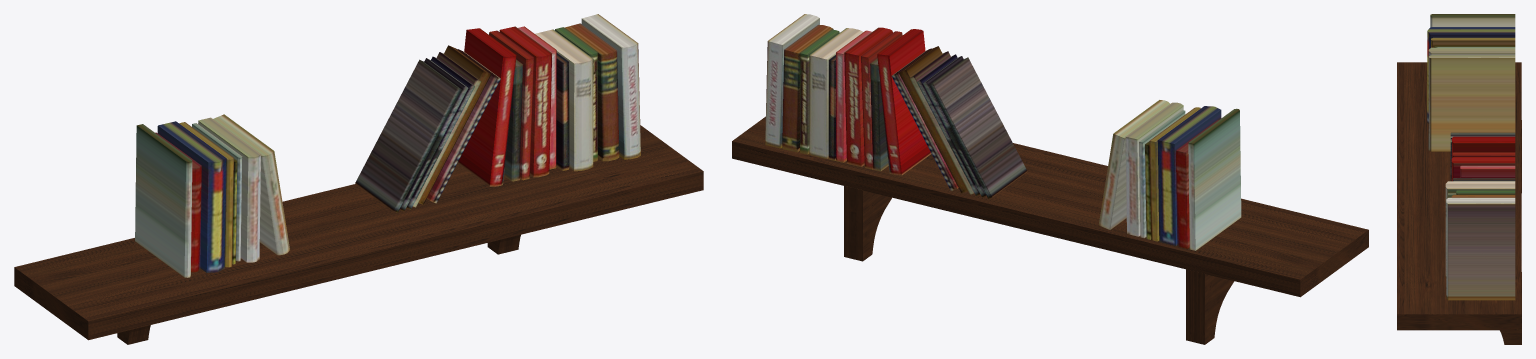
The model's file is Shelf 2.FBX.
The picture shows the model from 3 angles, left to right: view 1: azimuth 30°, elevation 25°; view 2: azimuth 150°, elevation 25°; view 3: azimuth 270°, elevation 25°; orthographic projection. The views are drawn at different scales.
Visible parts, largest first — view 1: books, shelf 2; view 2: books, shelf 2; view 3: books, shelf 2.
Part boxes in pixels (box(x1,y1,x2,y2)): books: box(135, 14, 640, 277); shelf 2: box(14, 125, 703, 344); books: box(765, 14, 1241, 250); shelf 2: box(732, 116, 1368, 344); books: box(1427, 14, 1515, 300); shelf 2: box(1397, 62, 1521, 344).
Bounding box in the file's own units: 1.27 × 0.4452 × 0.265.
